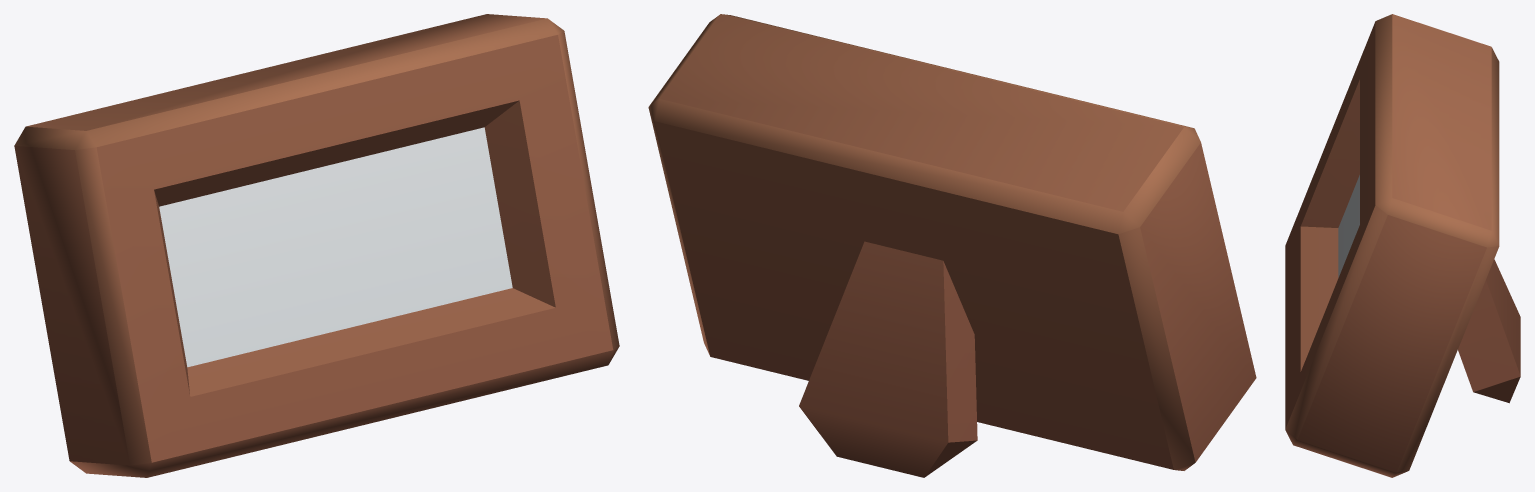
File: pictureframe-standing-b.glb
3 views of the same model, side by side, from view 1: azimuth 30°, elevation 25°; view 2: azimuth 150°, elevation 25°; view 3: azimuth 270°, elevation 25° (orthographic). The views are drawn at different scales.
Parts seen in each view (by area): view 1: pictureframe_standing_B; view 2: pictureframe_standing_B; view 3: pictureframe_standing_B.
Part boxes in pixels (<box>): pictureframe_standing_B: <box>14,14,619,477</box>; pictureframe_standing_B: <box>648,14,1256,477</box>; pictureframe_standing_B: <box>1285,14,1520,477</box>.
Size of the model in its own units: 0.7 by 0.4682 by 0.357.
